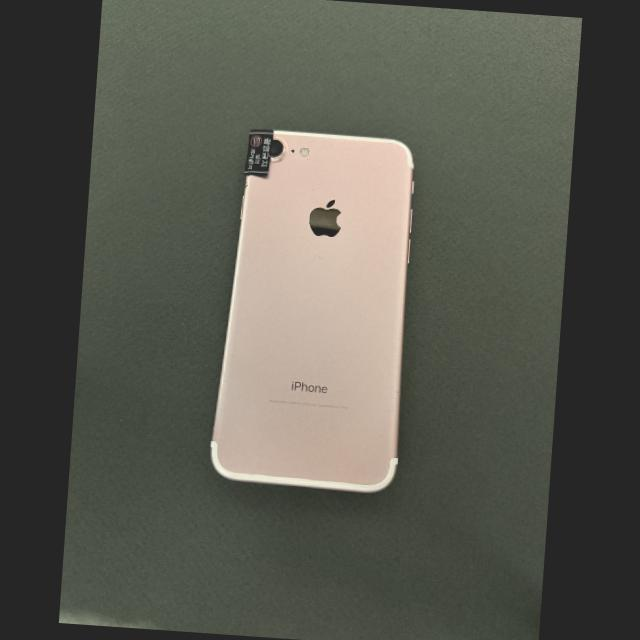lens: (271, 141, 284, 157)
phone: (208, 130, 412, 493)
sticker: (244, 129, 274, 175)
